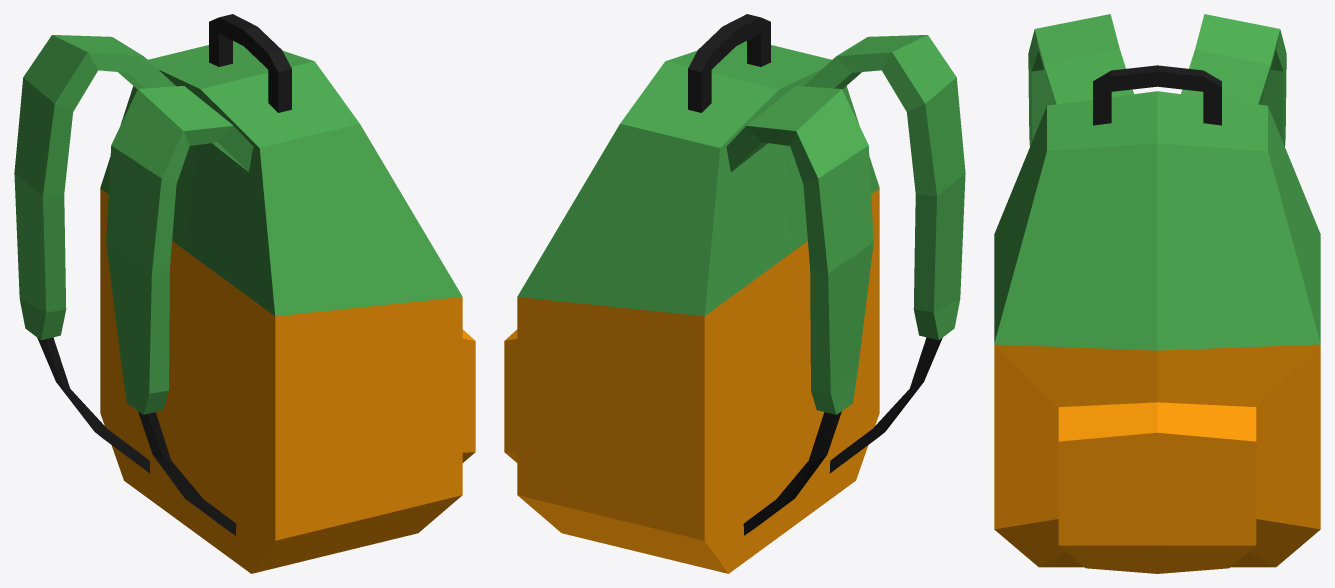
Rendered from backpack-jeremy.glb.
3 renders of one model, left to right at view 1: azimuth 30°, elevation 25°; view 2: azimuth 150°, elevation 25°; view 3: azimuth 270°, elevation 25°, orthographic. The views are drawn at different scales.
Visible parts, largest first — view 1: Backpack_Cube.024; view 2: Backpack_Cube.024; view 3: Backpack_Cube.024.
Boxes of the visible parts, box(x1,y1,x2,y2) form: Backpack_Cube.024: box(14, 14, 475, 573); Backpack_Cube.024: box(504, 14, 965, 573); Backpack_Cube.024: box(994, 14, 1320, 573).
Bounding box in the file's own units: 11.48 × 15.25 × 10.
